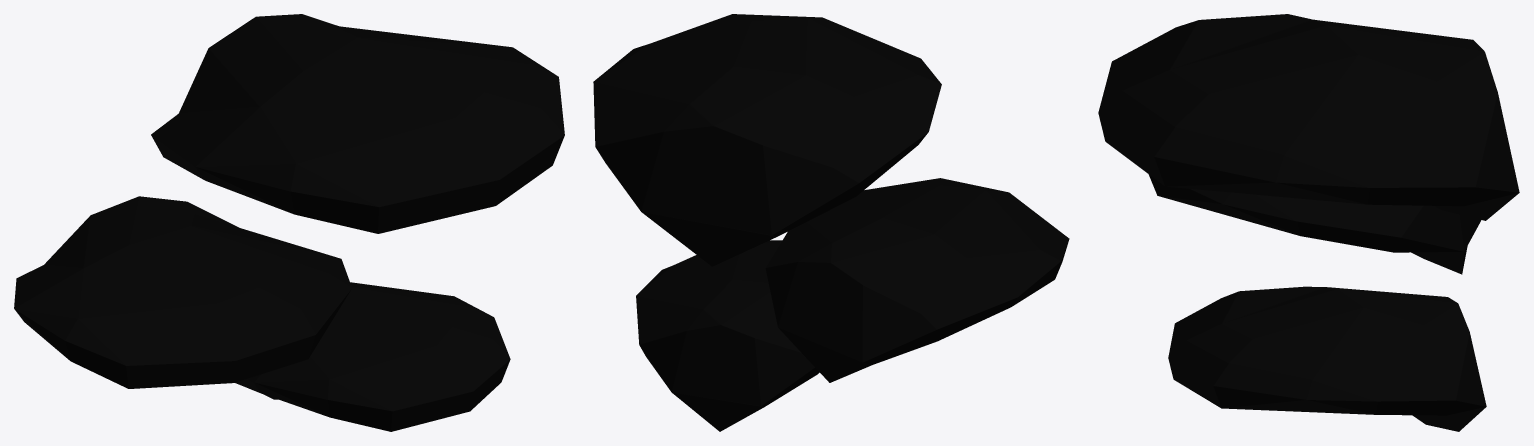
File: synty-plant-mushrooms-06.gltf
The picture shows the model from 3 angles, left to right: view 1: azimuth 30°, elevation 25°; view 2: azimuth 150°, elevation 25°; view 3: azimuth 270°, elevation 25°; orthographic projection. The views are drawn at different scales.
Parts seen in each view (by area): view 1: SM_Plant_Mushrooms_06; view 2: SM_Plant_Mushrooms_06; view 3: SM_Plant_Mushrooms_06.
Boxes of the visible parts, box(x1,y1,x2,y2) form: SM_Plant_Mushrooms_06: box(14, 14, 564, 431); SM_Plant_Mushrooms_06: box(593, 14, 1069, 431); SM_Plant_Mushrooms_06: box(1098, 14, 1519, 431).
Bounding box in the file's own units: 0.5089 × 0.3781 × 0.3669.
Materials: 1 (1 with a texture image).
